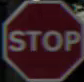Stop: (5, 1, 81, 74)
